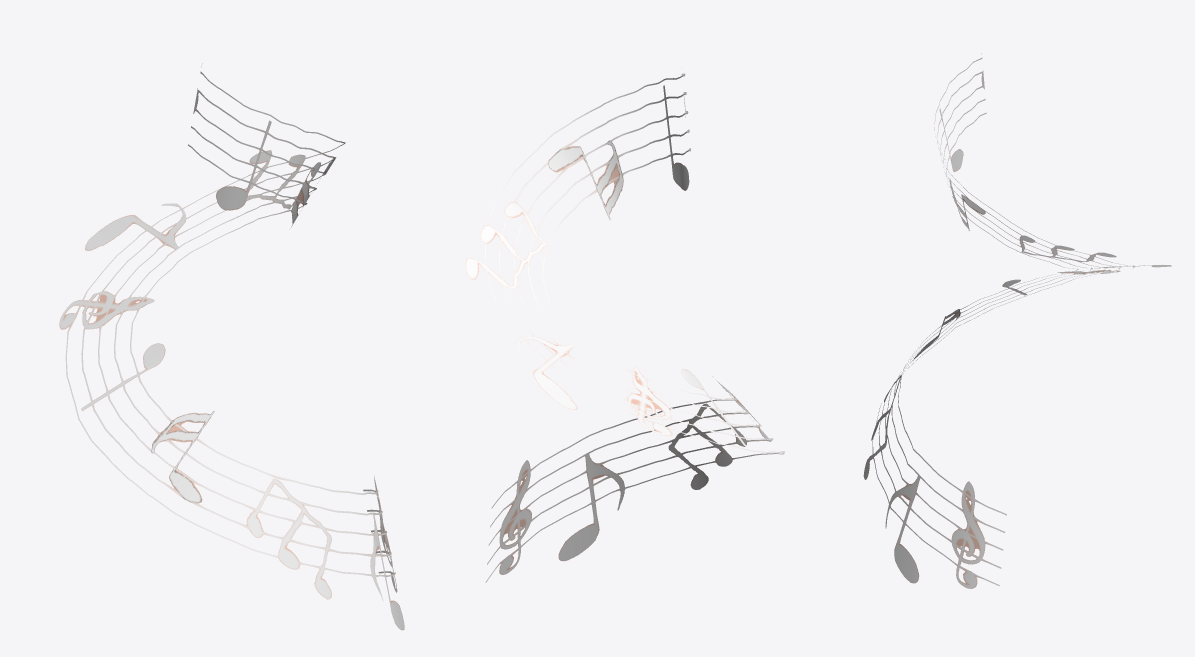
The model's file is wuxianpuwanqupian_ly.FBX.
The picture shows the model from 3 angles, left to right: view 1: azimuth 30°, elevation 25°; view 2: azimuth 150°, elevation 25°; view 3: azimuth 270°, elevation 25°; orthographic projection. The views are drawn at different scales.
Parts seen in each view (by area): view 1: Helix001; view 2: Helix001; view 3: Helix001.
Boxes of the visible parts, x1,y1,x2,y2 form: Helix001: (59,63,404,630); Helix001: (465,73,784,582); Helix001: (863,53,1171,588).
Bounding box in the file's own units: 58.46 × 112 × 60.51.
